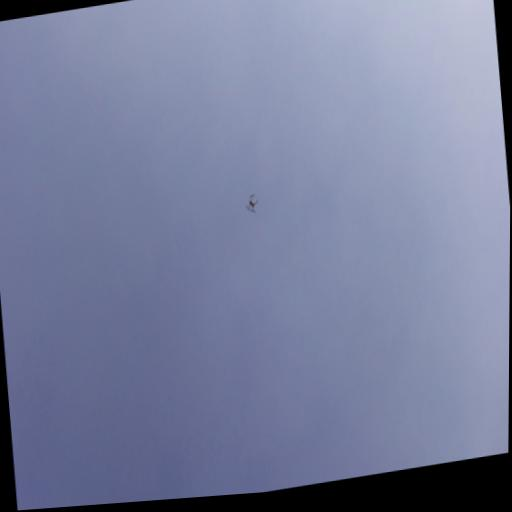drones: (243, 191, 261, 217)
